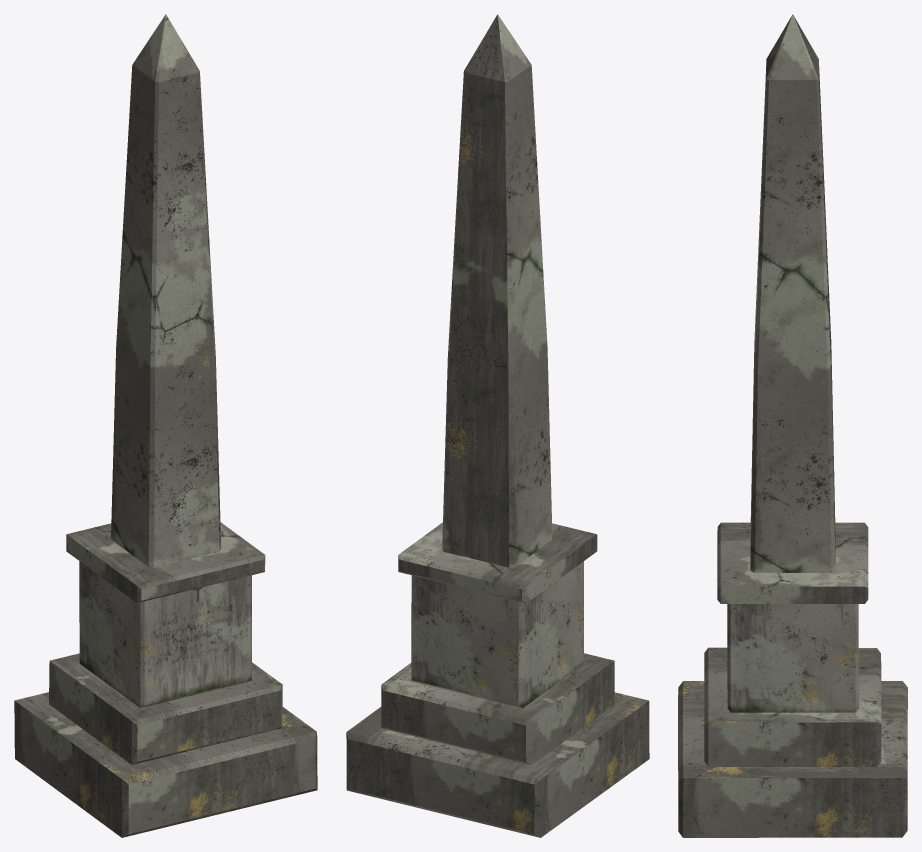
Rendered from Obelisk.gltf.
The picture shows the model from 3 angles, left to right: view 1: azimuth 30°, elevation 25°; view 2: azimuth 150°, elevation 25°; view 3: azimuth 270°, elevation 25°; orthographic projection.
Parts seen in each view (by area): view 1: Obelisk; view 2: Obelisk; view 3: Obelisk.
Part boxes in pixels (x1=…): Obelisk: x1=14, y1=14, x2=317, y2=837; Obelisk: x1=346, y1=14, x2=649, y2=837; Obelisk: x1=678, y1=14, x2=907, y2=837.
Bounding box in the file's own units: 1.41 × 5.22 × 1.4.
2 materials, 2 textured.
